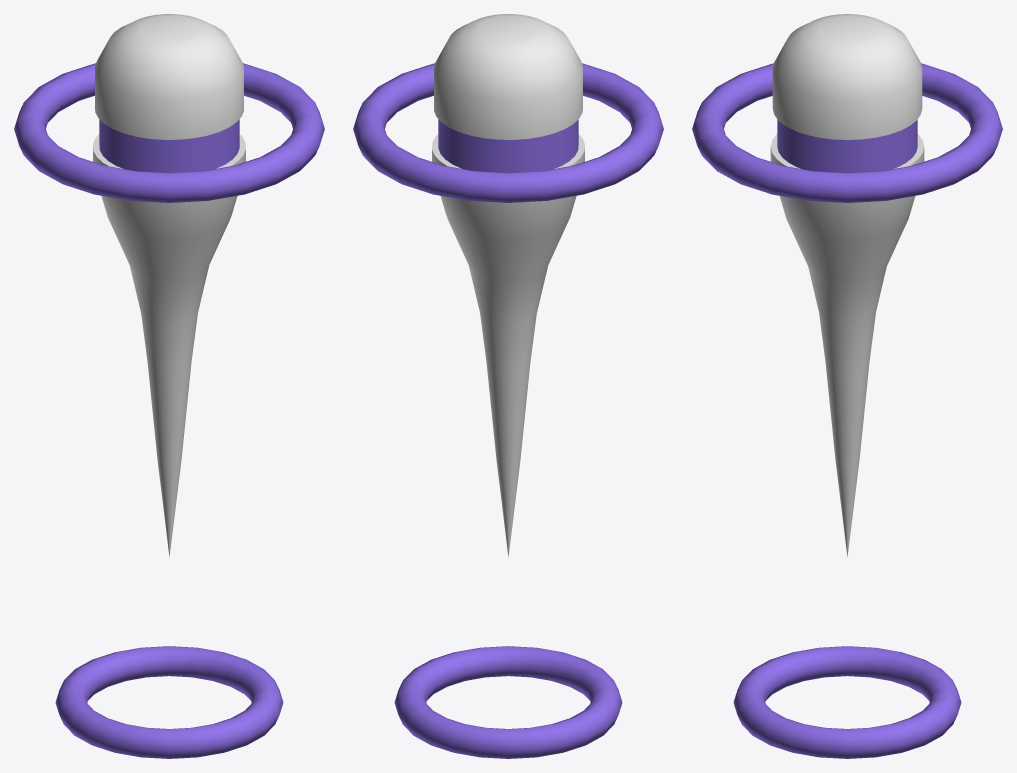
The model's file is streetlight.fbx.
3 views of the same model, side by side, from view 1: azimuth 30°, elevation 25°; view 2: azimuth 150°, elevation 25°; view 3: azimuth 270°, elevation 25° (orthographic).
Parts seen in each view (by area): view 1: Circle, Torus.006; view 2: Circle, Torus.006; view 3: Circle, Torus.006.
Part boxes in pixels (x1=…): Circle: x1=14, y1=14, x2=324, y2=557; Torus.006: x1=55, y1=646, x2=283, y2=758; Circle: x1=353, y1=14, x2=663, y2=557; Torus.006: x1=394, y1=646, x2=622, y2=758; Circle: x1=692, y1=14, x2=1002, y2=557; Torus.006: x1=733, y1=646, x2=961, y2=758.
Bounding box in the file's own units: 390 × 953 × 390.
